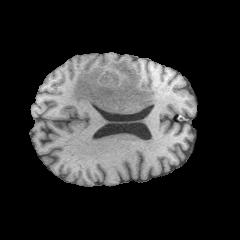glioma: (73, 60, 155, 112)
